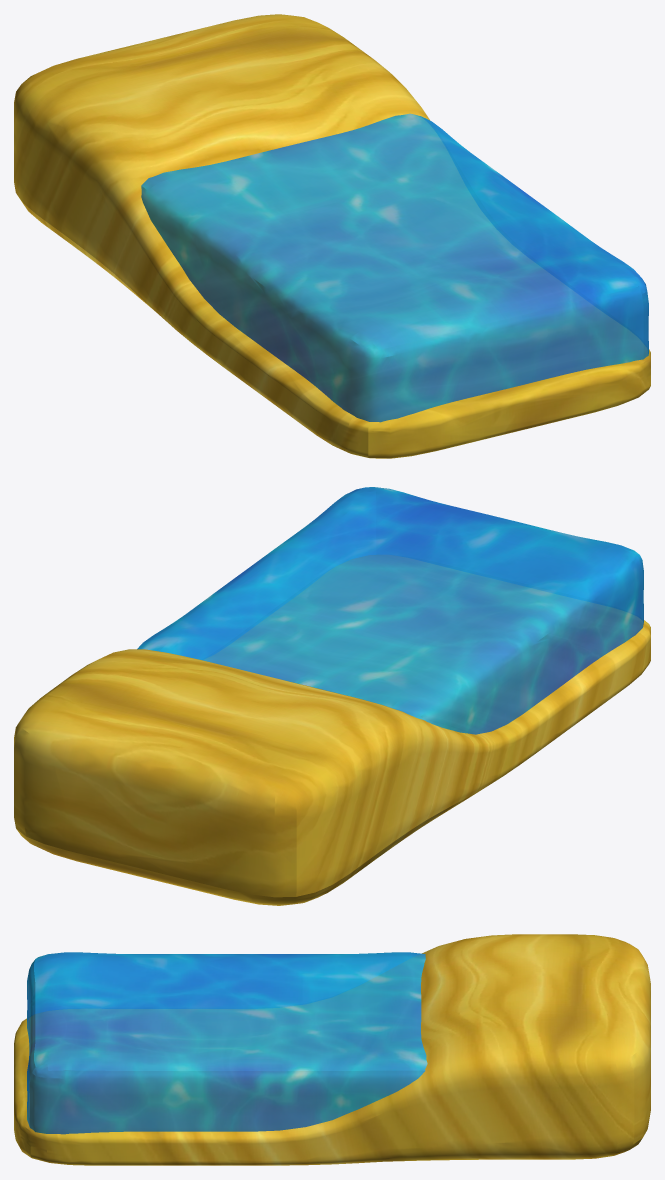
The model's file is sand.glb.
3 views of the same model, one above another, from view 1: azimuth 30°, elevation 25°; view 2: azimuth 150°, elevation 25°; view 3: azimuth 270°, elevation 25° (orthographic). The views are drawn at different scales.
Visible parts, largest first — view 1: Object_5, Object_4; view 2: Object_5, Object_4; view 3: Object_5, Object_4.
Boxes of the visible parts, box(x1,y1,x2,y2) form: Object_5: box(14, 14, 650, 458); Object_4: box(141, 113, 648, 422); Object_5: box(14, 555, 650, 905); Object_4: box(137, 487, 643, 734); Object_5: box(14, 934, 650, 1165); Object_4: box(27, 952, 427, 1134).
Size of the model in its own units: 0.6695 by 0.2862 by 1.37.
2 materials, 2 textured.
